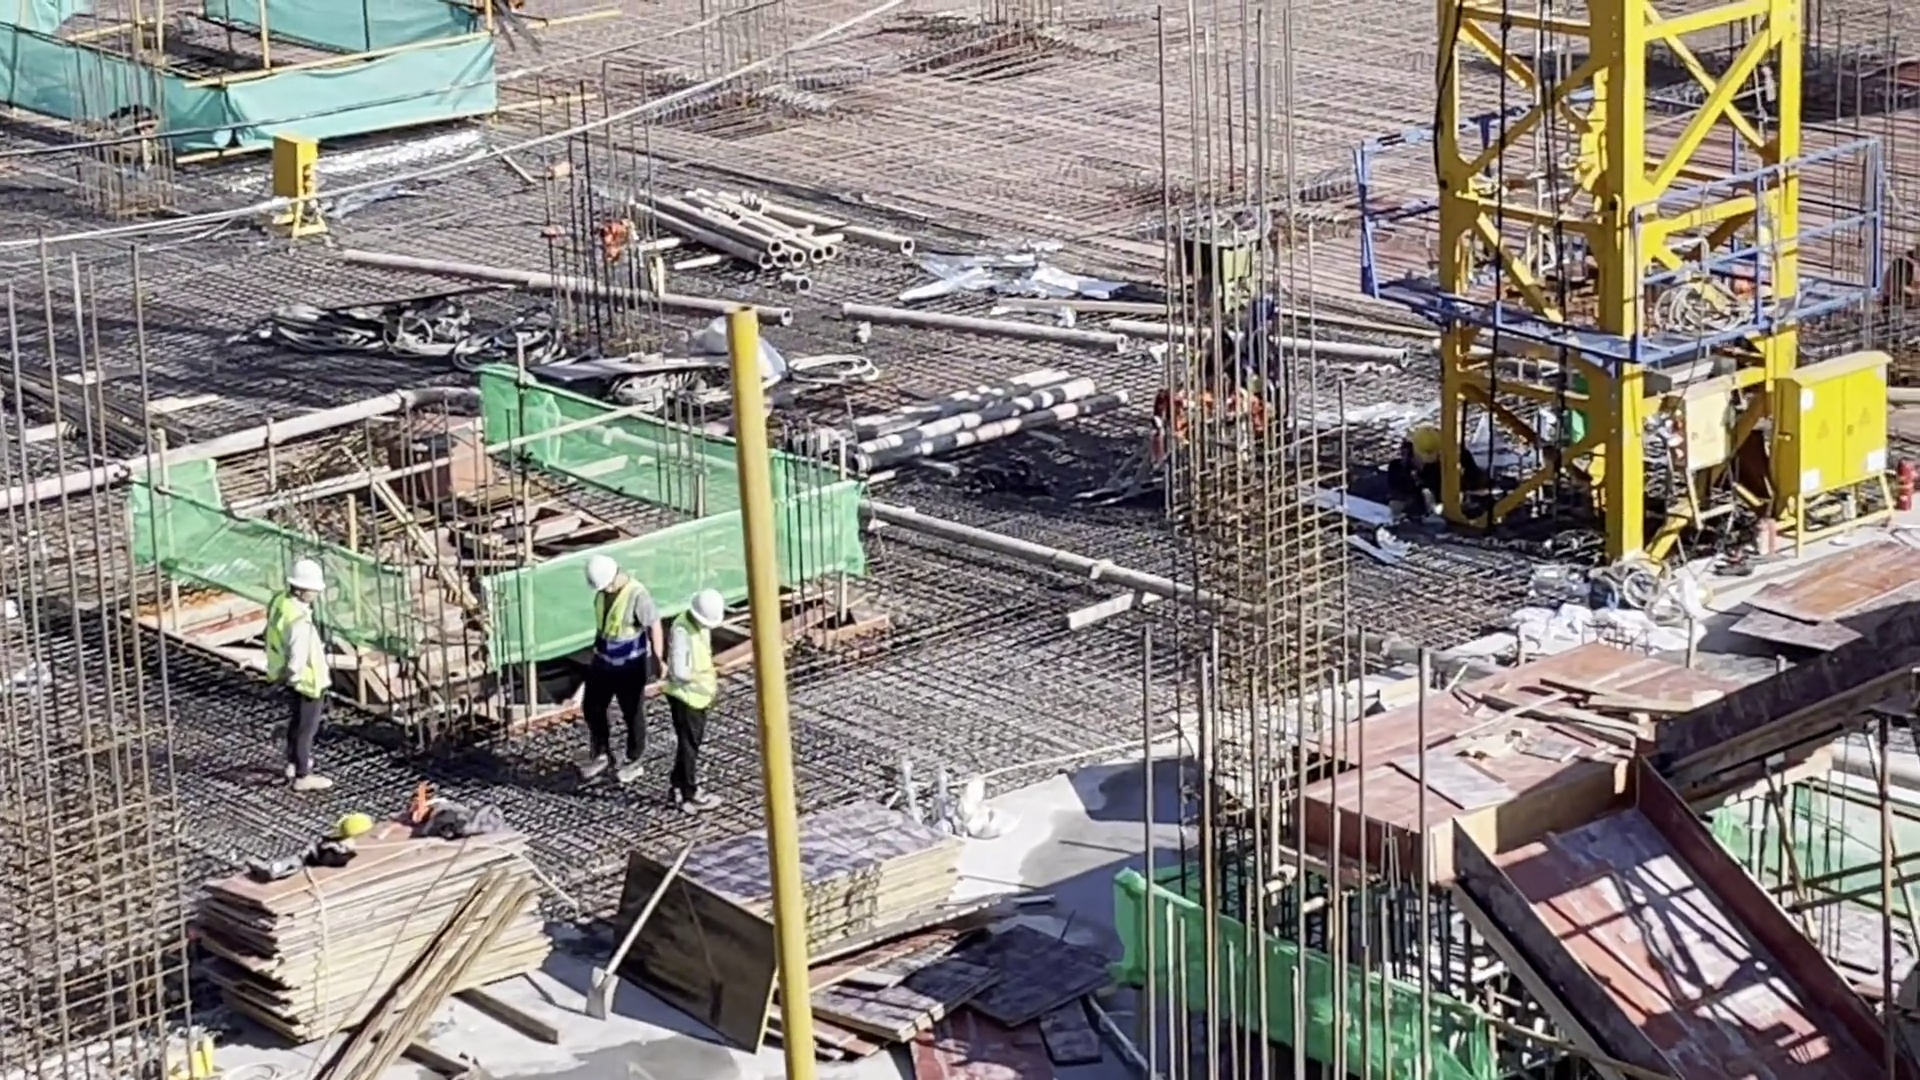board: (188, 805, 555, 1042), (626, 795, 969, 940)
ebox: (1774, 350, 1898, 549), (270, 129, 326, 242)
helmet: (688, 587, 726, 628), (1411, 420, 1446, 458), (287, 562, 325, 595), (591, 557, 617, 590)
person: (586, 557, 660, 793), (271, 556, 343, 793), (667, 579, 723, 827), (1399, 420, 1485, 508)
vest: (273, 595, 331, 701), (661, 617, 715, 705), (596, 591, 648, 666)
